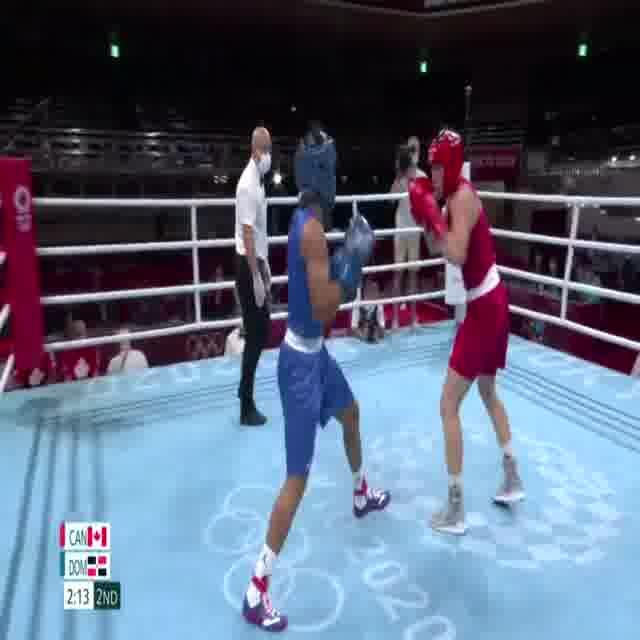blue-player: (242, 120, 393, 632)
red-player: (405, 126, 527, 539)
referee: (232, 124, 278, 430)
